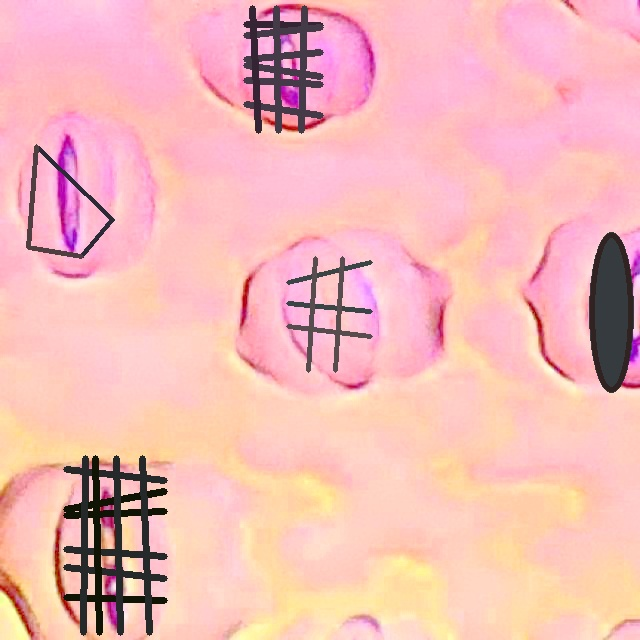close: (286, 257, 371, 371)
open: (63, 456, 166, 635), (243, 6, 323, 133), (27, 145, 114, 258), (589, 231, 633, 392)
